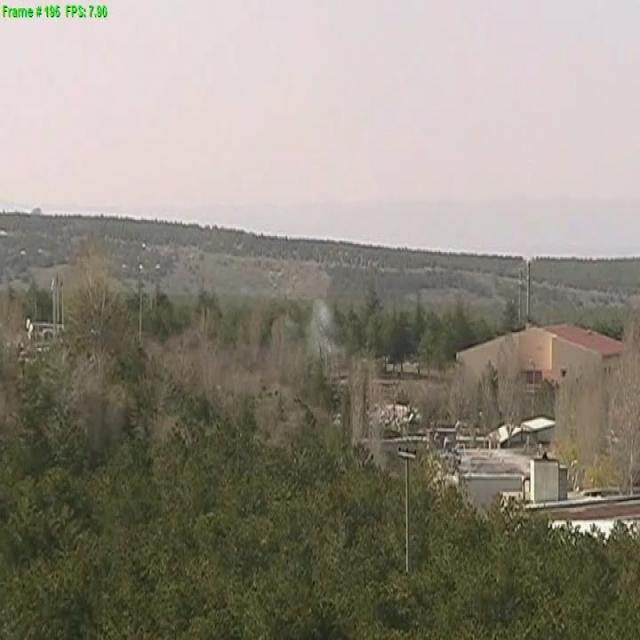smoke: (306, 296, 334, 361)
